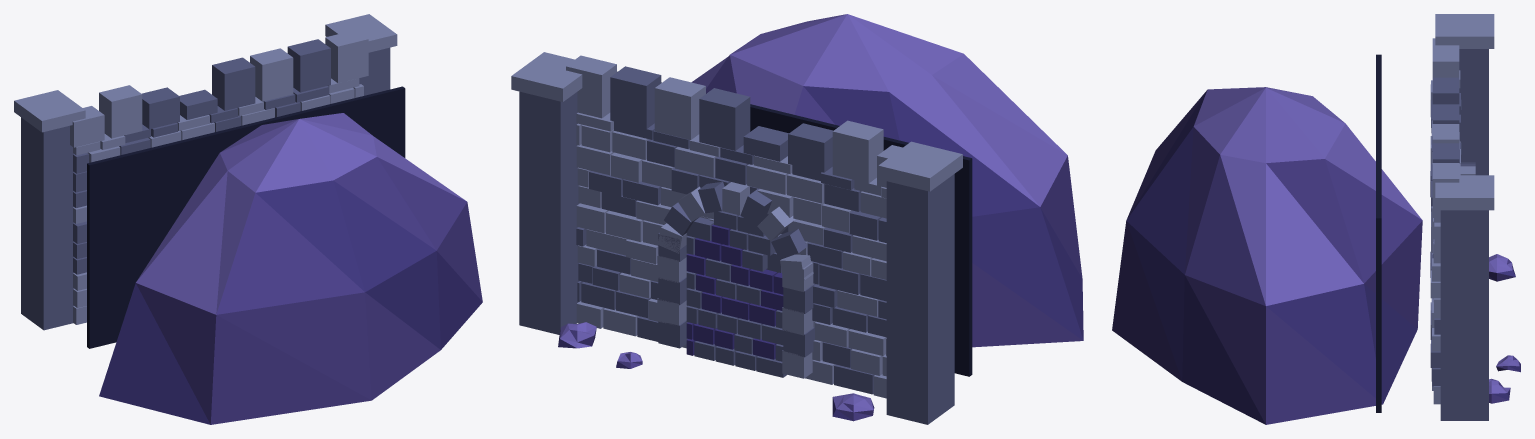
File: Mine_Door_Bricked.obj
3 views of the same model, side by side, from view 1: azimuth 30°, elevation 25°; view 2: azimuth 150°, elevation 25°; view 3: azimuth 270°, elevation 25° (orthographic). The views are drawn at different scales.
Visible parts, largest first — view 1: Mine_Door_Bricked; view 2: Mine_Door_Bricked; view 3: Mine_Door_Bricked.
Boxes of the visible parts, box(x1,y1,x2,y2) form: Mine_Door_Bricked: box(14, 14, 482, 424); Mine_Door_Bricked: box(511, 14, 1083, 424); Mine_Door_Bricked: box(1112, 14, 1520, 424).
Size of the model in its own units: 8.75 by 5.06 by 7.61.
